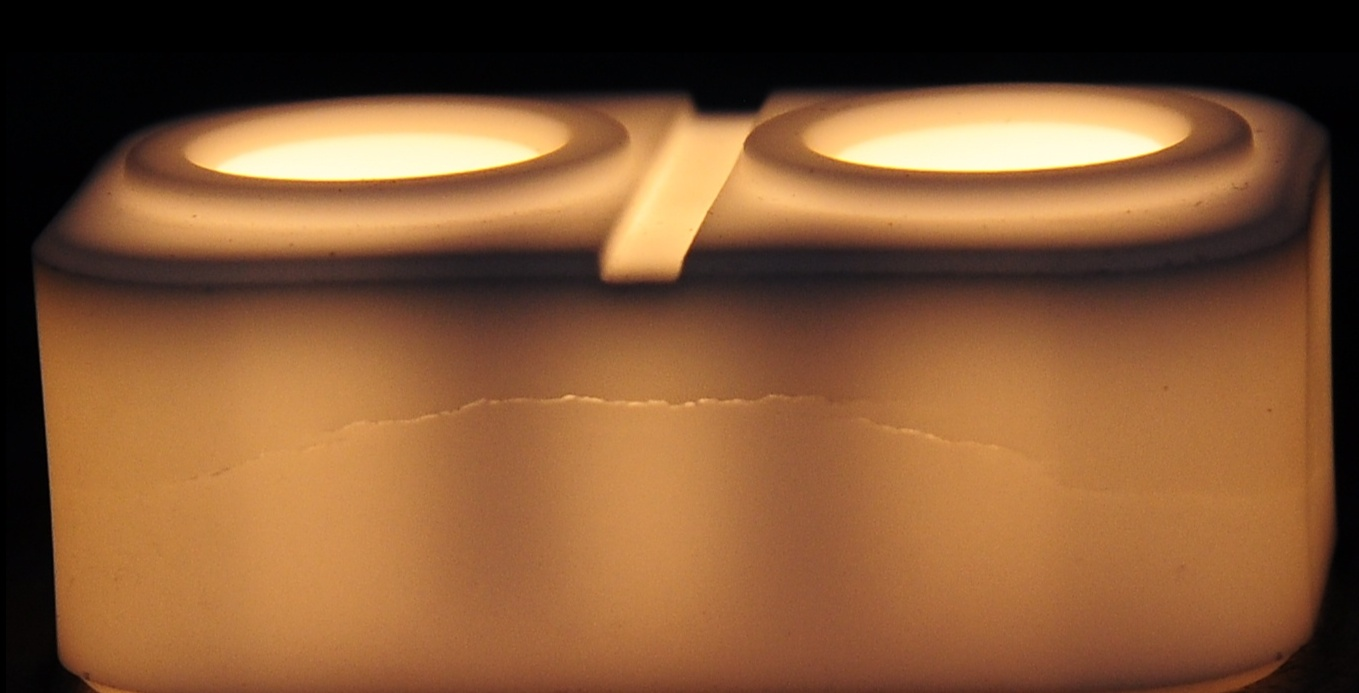flaw: (165, 378, 1291, 532)
